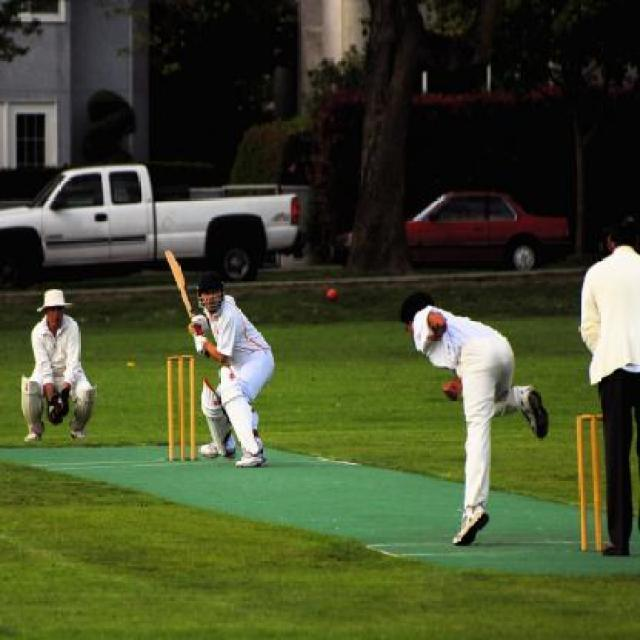-: (313, 267, 344, 318)
